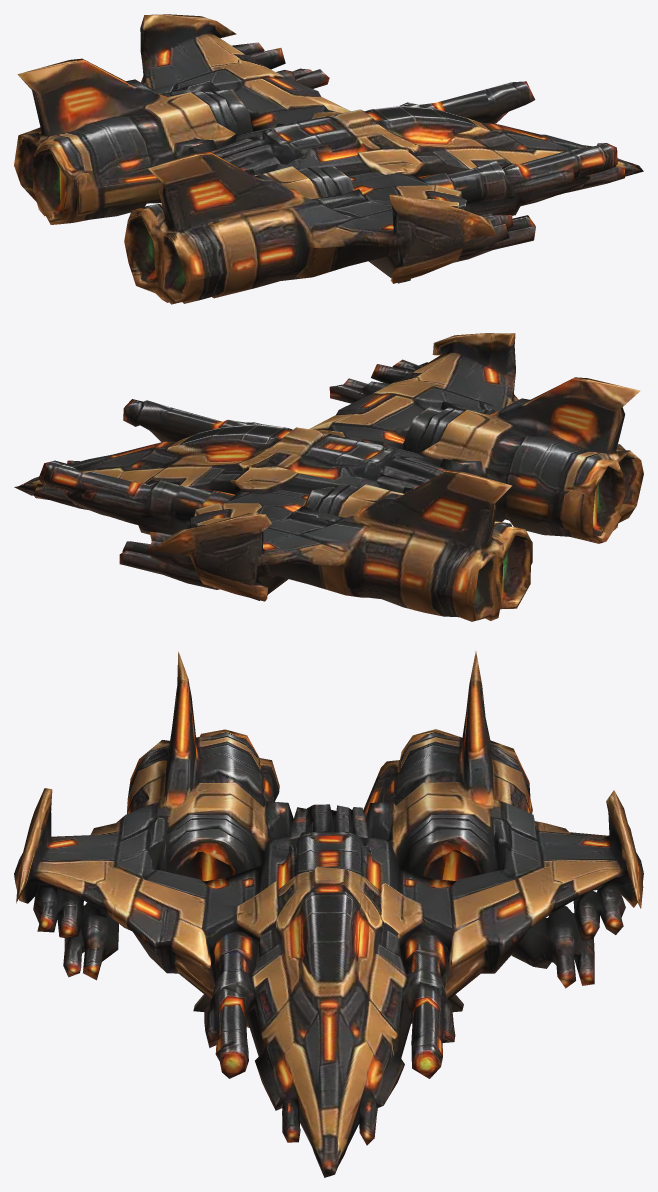
The model's file is viper.glb.
3 views of the same model, one above another, from view 1: azimuth 30°, elevation 25°; view 2: azimuth 150°, elevation 25°; view 3: azimuth 270°, elevation 25° (orthographic). The views are drawn at different scales.
Parts seen in each view (by area): view 1: tripo_node_cf211b7f-151b-47c2-841f-eb8887948e56; view 2: tripo_node_cf211b7f-151b-47c2-841f-eb8887948e56; view 3: tripo_node_cf211b7f-151b-47c2-841f-eb8887948e56.
Boxes of the visible parts, left/top/right/bottom form: tripo_node_cf211b7f-151b-47c2-841f-eb8887948e56: left=14, top=14, right=643, bottom=304; tripo_node_cf211b7f-151b-47c2-841f-eb8887948e56: left=14, top=333, right=643, bottom=621; tripo_node_cf211b7f-151b-47c2-841f-eb8887948e56: left=14, top=651, right=643, bottom=1177.
Size of the model in its own units: 0.9833 by 0.3122 by 0.8325.
Materials: 1 (1 with a texture image).
